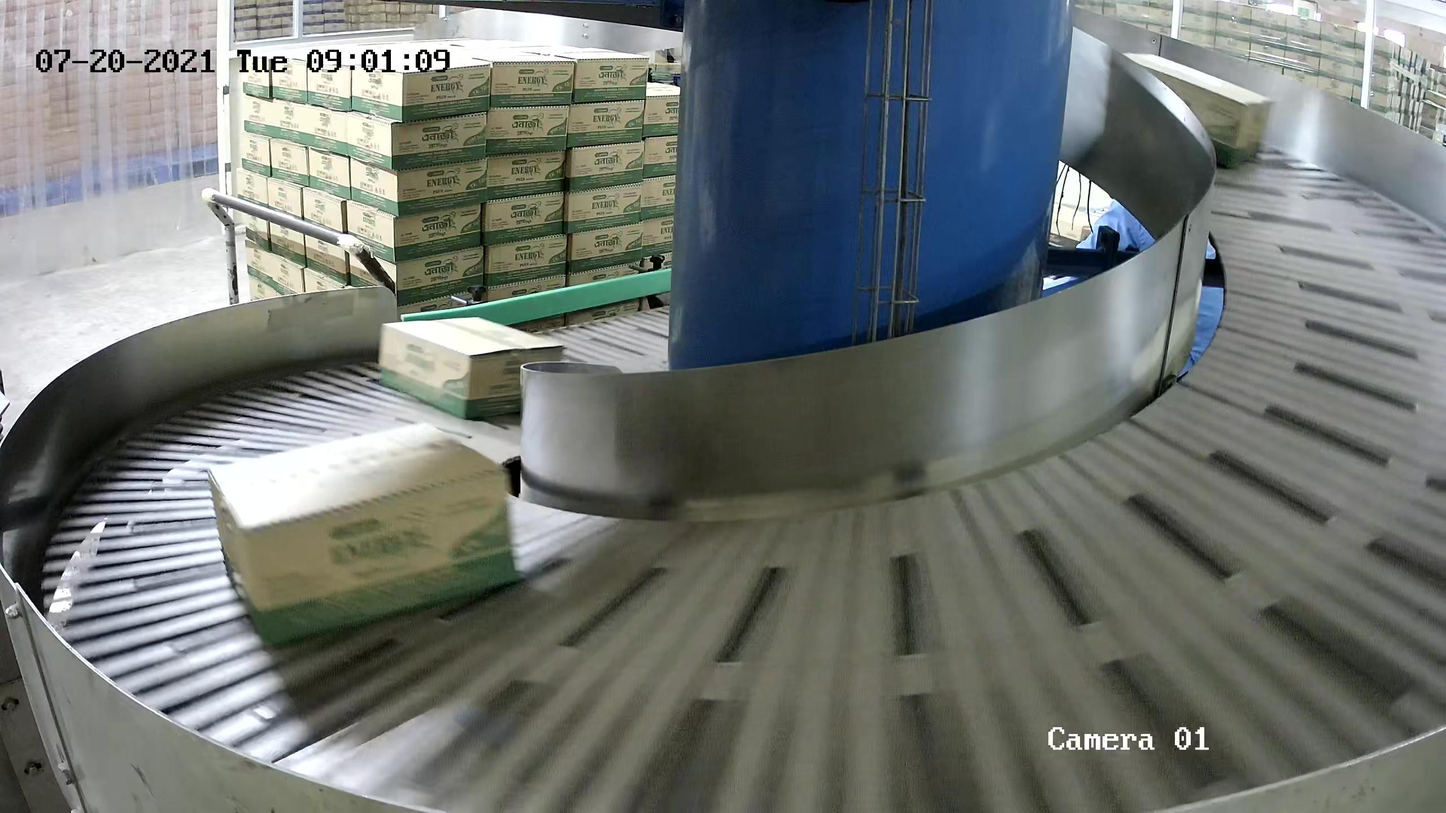Box: (206, 422, 523, 650), (1112, 52, 1276, 177), (379, 317, 565, 426)
